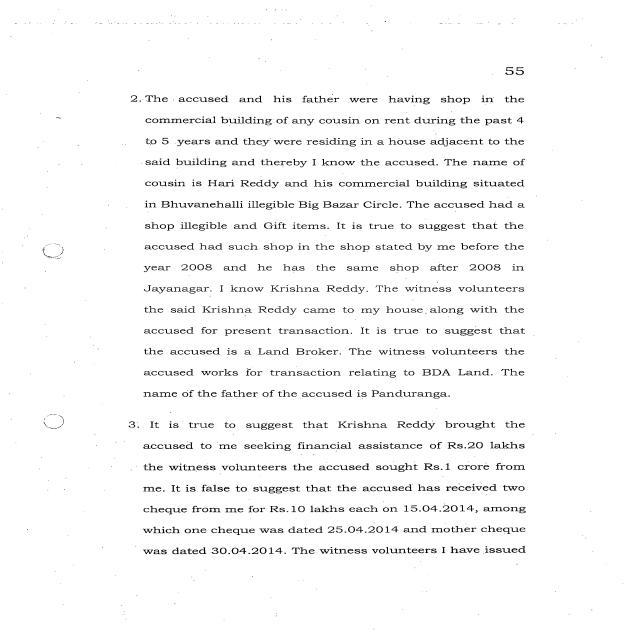page-number: (397, 0, 640, 95)
